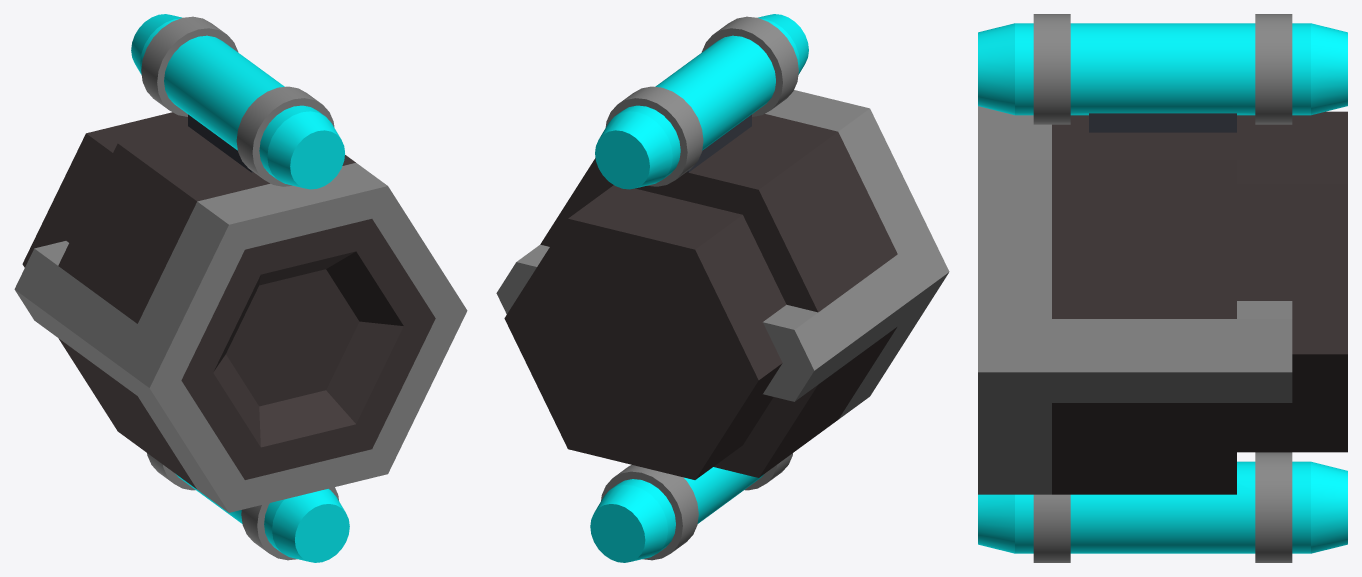
File: piping_coolant_end.fbx
3 renders of one model, left to right at view 1: azimuth 30°, elevation 25°; view 2: azimuth 150°, elevation 25°; view 3: azimuth 270°, elevation 25°, orthographic. The views are drawn at different scales.
Parts seen in each view (by area): view 1: mergedBlocks; view 2: mergedBlocks; view 3: mergedBlocks.
Part boxes in pixels (bbox=[...]): mergedBlocks: bbox=[14, 14, 467, 562]; mergedBlocks: bbox=[496, 14, 949, 562]; mergedBlocks: bbox=[978, 14, 1347, 562].
Size of the model in its own units: 11.55 by 16 by 10.
